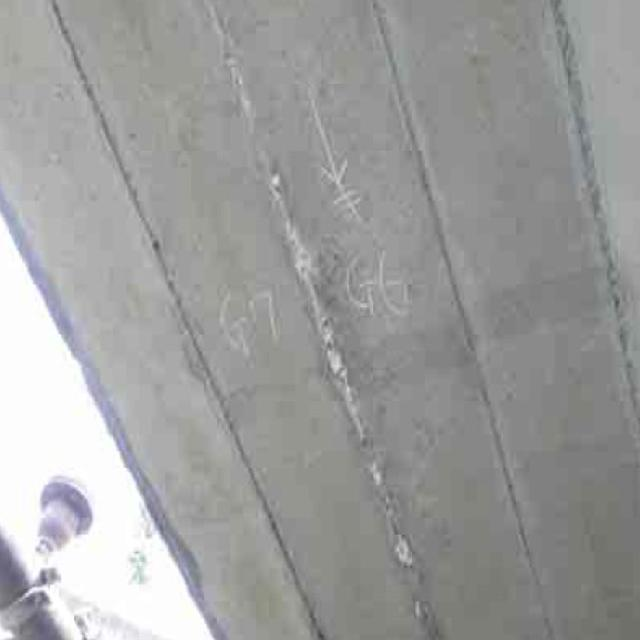freelime: (246, 170, 414, 577)
